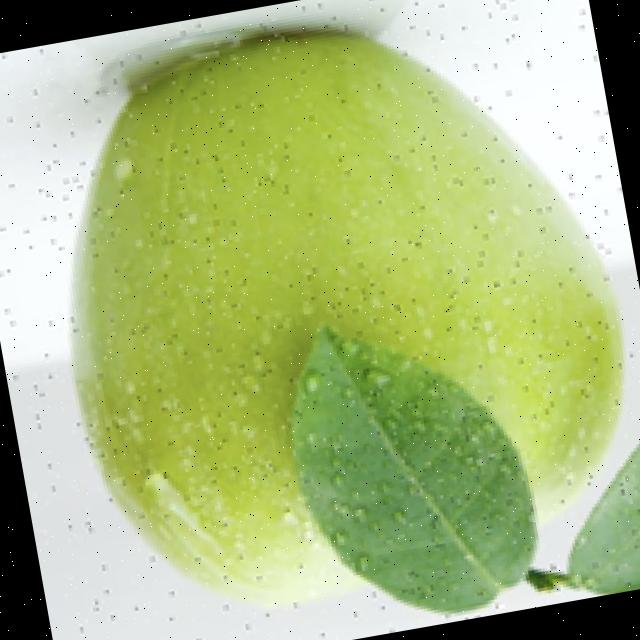apple: (31, 0, 637, 623)
